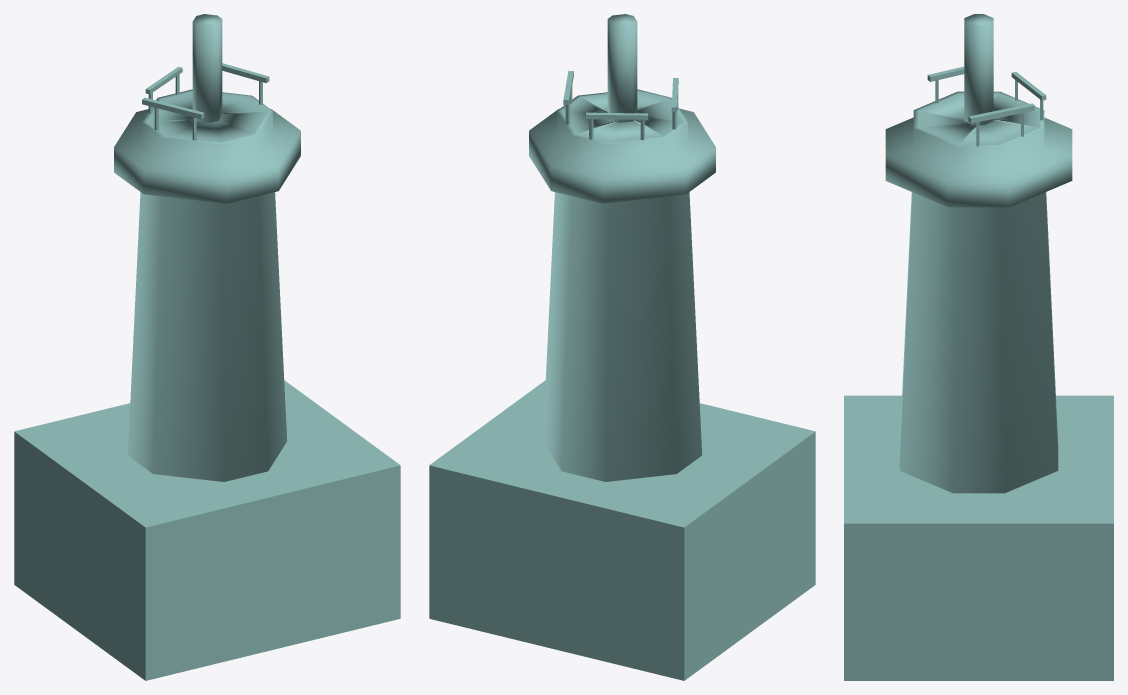
The model's file is Farol.fbx.
The picture shows the model from 3 angles, left to right: view 1: azimuth 30°, elevation 25°; view 2: azimuth 150°, elevation 25°; view 3: azimuth 270°, elevation 25°; orthographic projection. The views are drawn at different scales.
Parts seen in each view (by area): view 1: Cube.001, Cube; view 2: Cube.001, Cube; view 3: Cube.001, Cube.
Boxes of the visible parts, bbox=[...] form: Cube.001: bbox=[14, 380, 400, 680]; Cube: bbox=[114, 14, 300, 481]; Cube.001: bbox=[429, 380, 815, 680]; Cube: bbox=[529, 14, 715, 481]; Cube.001: bbox=[844, 395, 1113, 680]; Cube: bbox=[885, 14, 1072, 493].
Bounding box in the file's own units: 11102 × 24179 × 9909.
